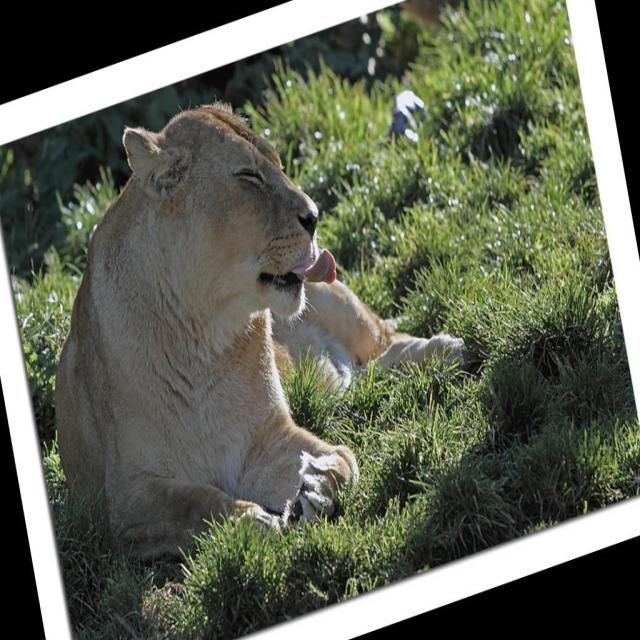Lion: (9, 18, 492, 609)
